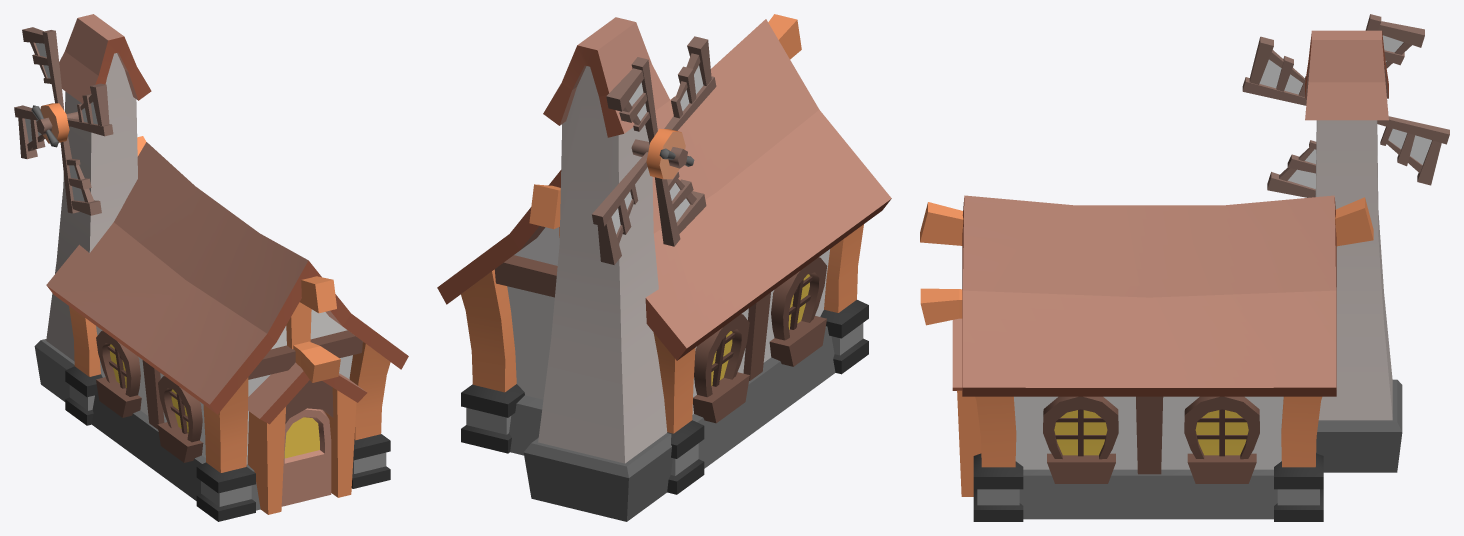
File: house_013.fbx
3 renders of one model, left to right at view 1: azimuth 30°, elevation 25°; view 2: azimuth 150°, elevation 25°; view 3: azimuth 270°, elevation 25°, orthographic. The views are drawn at different scales.
Parts seen in each view (by area): view 1: house_013; view 2: house_013; view 3: house_013.
Boxes of the visible parts, x1,y1,x2,y2 form: house_013: (14,14,408,521); house_013: (437,14,891,521); house_013: (920,14,1449,521).
Size of the model in its own units: 315 by 631 by 546.
Materials: 2 (2 with a texture image).
